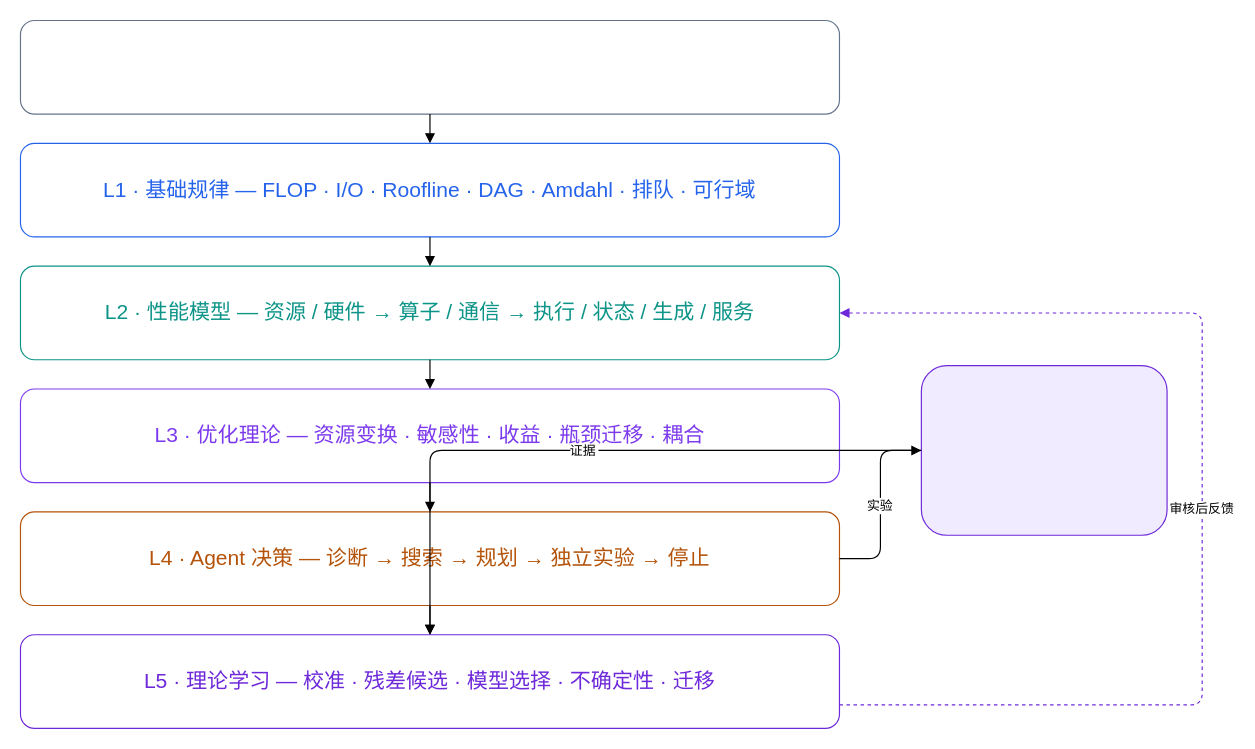
Some shapes in this 1255 by 749 pixel diagram are drawn without their labels. The shapes that lost their labels are listed below. From the top down, each one's box as (x1, y1, x2, y2) in pixels, then its label:
(19, 19, 839, 114): L0 · 定义与度量 — 任务语义 · 工作量 · 量纲 · 指标
(920, 364, 1167, 535): 独立实验与证据 事前预测 / 实测 / 模块 / context / 参数集
